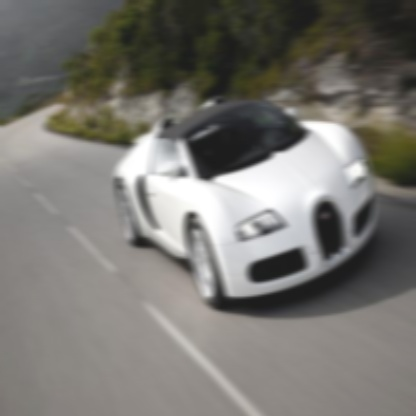Vehicle: (115, 98, 376, 308)
